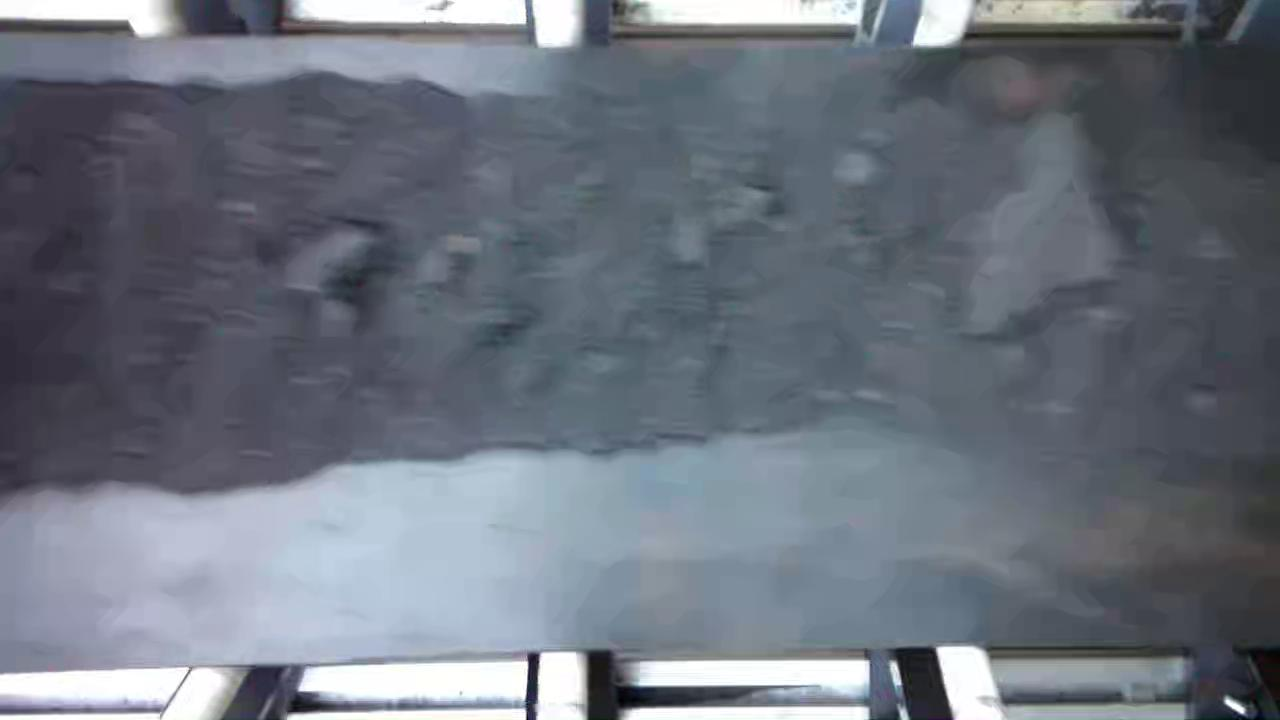conveyor: (1, 50, 1280, 642)
